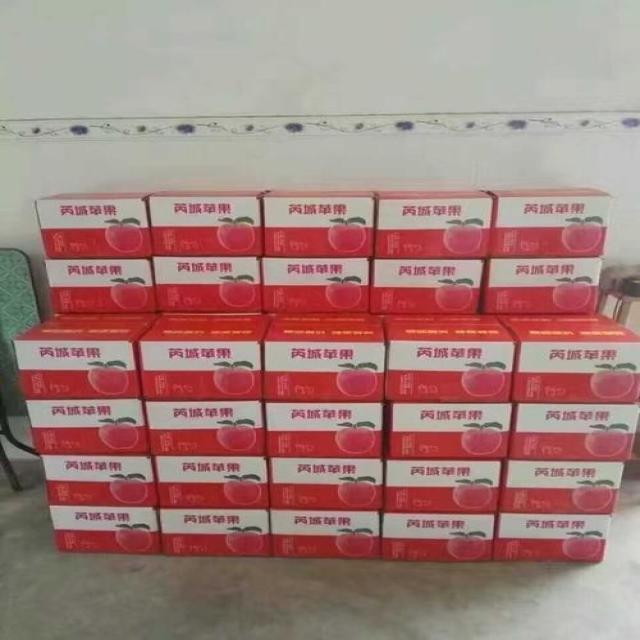Carton: (146, 404, 384, 508), (161, 461, 381, 557), (33, 196, 372, 258), (384, 402, 512, 562), (493, 462, 621, 563), (37, 452, 160, 553), (387, 340, 511, 401), (13, 341, 136, 398), (517, 345, 639, 402), (376, 198, 493, 256), (140, 343, 257, 400), (262, 342, 381, 398), (511, 406, 634, 460), (497, 198, 609, 257), (489, 258, 602, 313), (371, 260, 486, 313), (26, 402, 145, 453), (262, 259, 367, 312), (45, 261, 150, 312), (154, 260, 257, 310)
